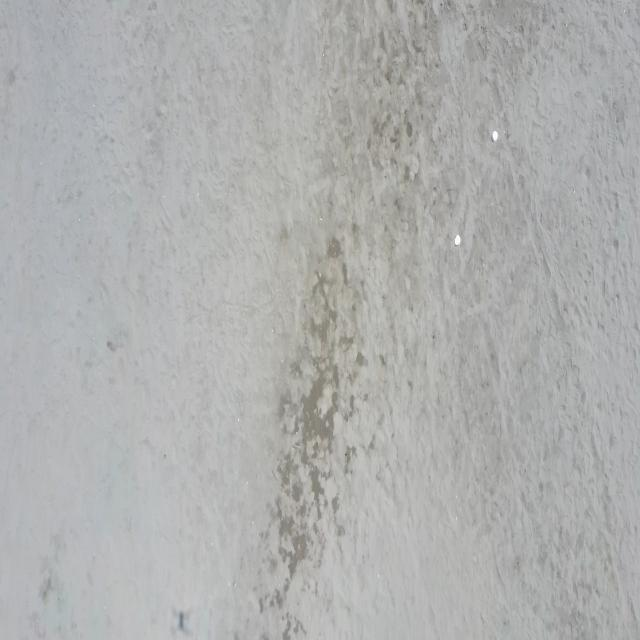take-away-containers: (491, 130, 498, 143), (454, 234, 461, 246)
